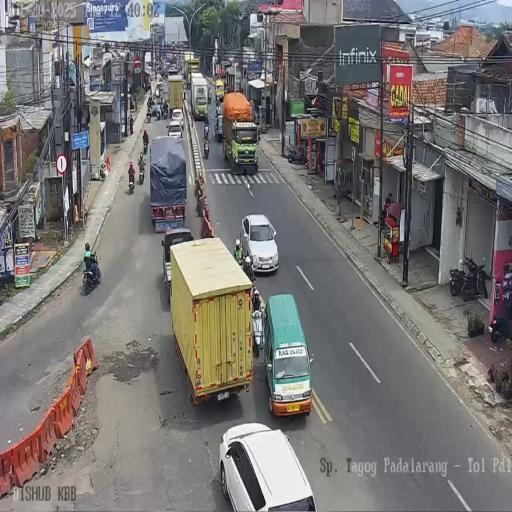3: (168, 235, 255, 403), (150, 137, 187, 230), (222, 90, 258, 174), (185, 56, 200, 90)
car: (218, 422, 316, 510), (264, 293, 314, 416), (240, 214, 278, 276), (161, 228, 194, 293), (170, 107, 184, 131), (215, 78, 225, 102), (155, 81, 164, 100), (169, 64, 177, 75)
truck: (449, 252, 491, 303), (82, 253, 102, 295), (489, 311, 510, 342), (285, 143, 305, 165), (203, 134, 210, 160), (128, 169, 135, 193), (138, 163, 145, 185), (162, 100, 168, 119), (146, 108, 152, 123), (207, 87, 212, 104), (164, 72, 169, 82)
